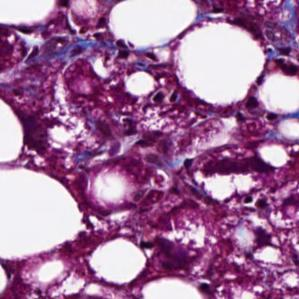inflammation: (147, 232, 199, 279), (67, 14, 111, 63), (234, 94, 282, 127), (113, 38, 161, 66), (270, 45, 299, 77), (251, 222, 278, 255), (151, 88, 185, 113), (152, 88, 182, 109), (240, 194, 272, 211), (183, 157, 198, 177)
